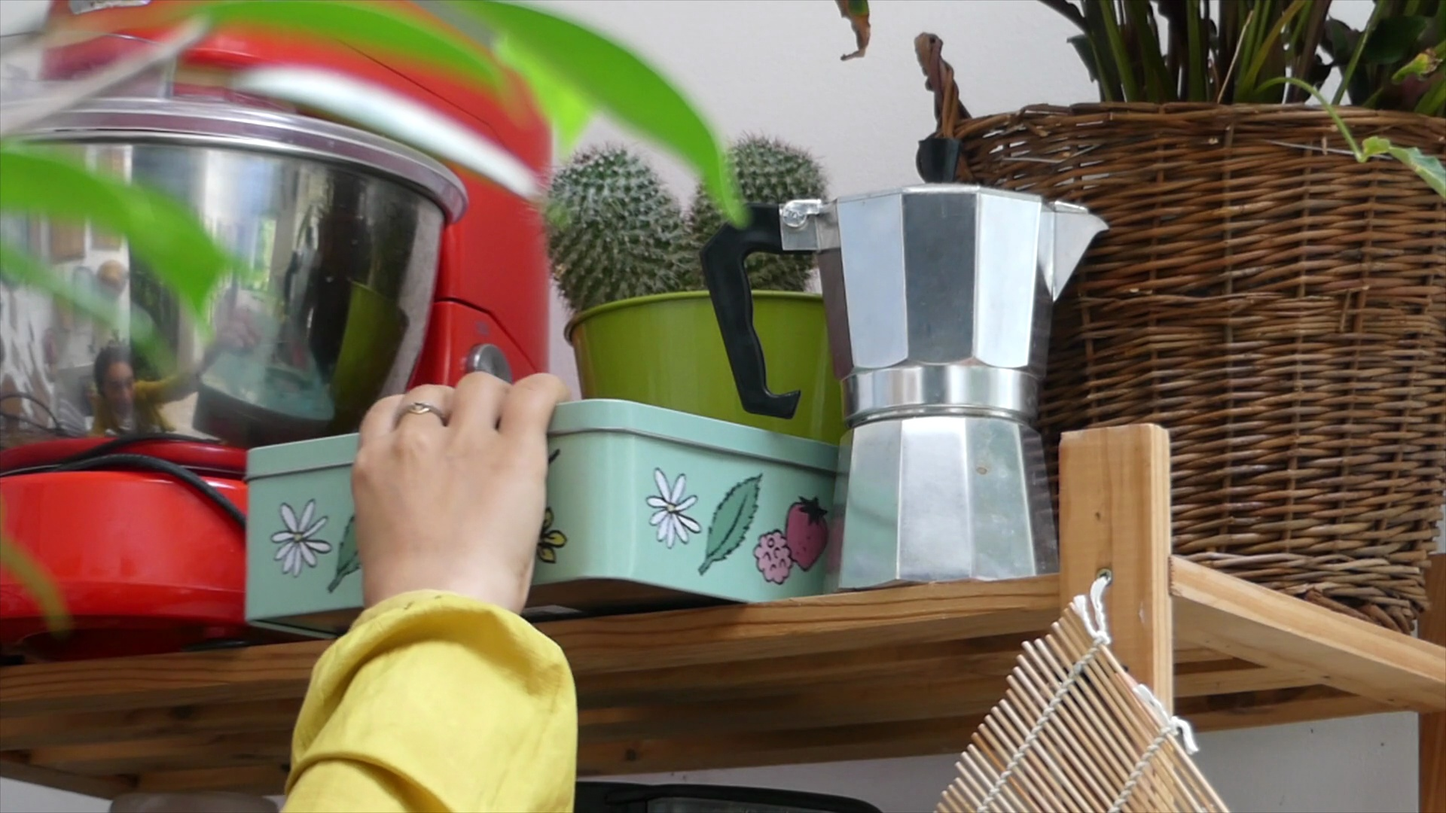dallah: (159, 272, 809, 813)
dates_box: (674, 156, 1348, 609), (718, 185, 981, 407)
electronics: (948, 0, 1446, 813), (0, 82, 516, 813), (478, 190, 978, 813), (1, 103, 350, 813), (481, 381, 1031, 813), (0, 294, 419, 813), (0, 407, 305, 813), (247, 437, 375, 632)
perfume_bottle: (0, 0, 646, 521), (717, 187, 855, 428)
watch: (0, 64, 731, 813), (196, 65, 718, 813), (840, 0, 1375, 569), (1025, 231, 1445, 813), (938, 376, 1446, 813), (751, 0, 1233, 440), (1106, 310, 1446, 813), (883, 585, 1273, 813), (919, 598, 1199, 813), (934, 645, 1277, 813), (879, 652, 1141, 813), (889, 748, 1056, 813)
